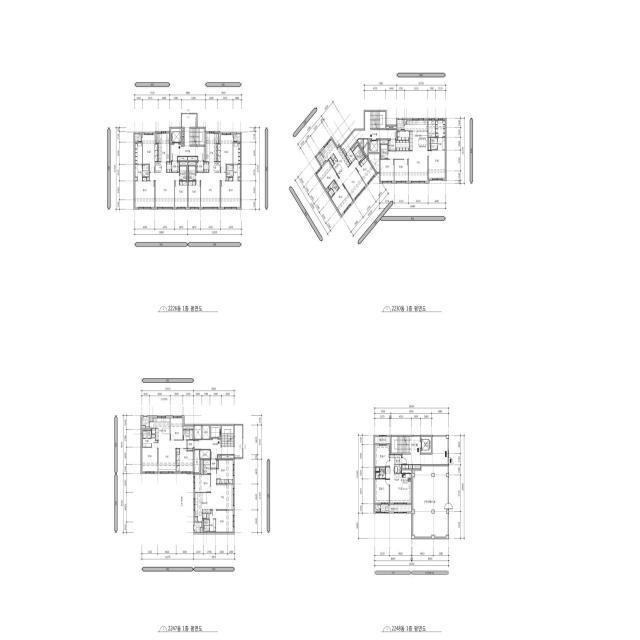space_balconi: (381, 505, 412, 512), (316, 152, 326, 166), (375, 436, 390, 443), (397, 119, 404, 130)
space_bedroom: (331, 184, 353, 215), (316, 161, 339, 189), (221, 177, 241, 208), (142, 134, 158, 172), (135, 177, 154, 208), (218, 134, 233, 172), (356, 157, 376, 185), (142, 438, 157, 472), (210, 511, 234, 532), (429, 150, 445, 179), (217, 460, 233, 483), (177, 449, 193, 472), (375, 479, 389, 503), (188, 181, 200, 208), (175, 181, 187, 208), (380, 160, 394, 182), (170, 417, 183, 440), (375, 445, 389, 466), (395, 160, 408, 182), (194, 475, 210, 492)
space_dressroom: (436, 119, 445, 137), (135, 143, 142, 164), (233, 143, 240, 164), (233, 165, 241, 181), (135, 165, 142, 181)
space_elevator: (421, 437, 431, 453), (171, 129, 181, 143), (211, 426, 221, 438), (369, 140, 379, 152)
space_elevator_hall: (171, 114, 205, 160), (341, 129, 396, 154), (403, 436, 448, 464), (194, 438, 233, 458)
space_front: (345, 150, 356, 164), (390, 455, 402, 464), (388, 140, 396, 151), (172, 161, 179, 172), (196, 161, 203, 172), (187, 440, 193, 450), (211, 460, 218, 468)
space_kitchen: (321, 139, 350, 177), (405, 119, 428, 151), (155, 132, 170, 173), (206, 132, 220, 173), (194, 493, 211, 521), (150, 417, 170, 440), (395, 474, 411, 490)
space_living_room: (336, 158, 366, 201), (388, 151, 428, 182), (386, 458, 411, 503), (196, 173, 226, 208), (150, 173, 179, 208), (158, 440, 187, 472), (211, 469, 234, 509)
space_other: (413, 466, 448, 537), (235, 425, 242, 458), (369, 154, 379, 172), (428, 120, 435, 137), (396, 141, 409, 150), (194, 450, 199, 472), (397, 131, 409, 140), (194, 426, 202, 439), (202, 426, 210, 439), (376, 468, 385, 478), (363, 139, 368, 157), (200, 450, 210, 458), (194, 522, 202, 532), (142, 417, 149, 428), (351, 142, 358, 151), (358, 139, 363, 149), (204, 162, 209, 172), (395, 465, 401, 473), (375, 505, 381, 512), (167, 162, 171, 172), (329, 158, 334, 165), (222, 455, 233, 458), (380, 140, 388, 144), (183, 426, 193, 429), (386, 126, 396, 129), (201, 460, 203, 474), (402, 470, 411, 473), (188, 157, 197, 160), (178, 157, 187, 160), (188, 162, 196, 165), (413, 465, 420, 468), (180, 162, 187, 165), (155, 134, 157, 143), (182, 137, 184, 145), (403, 465, 408, 468), (182, 129, 184, 136), (152, 434, 155, 438), (326, 188, 329, 192), (429, 138, 430, 150), (409, 465, 412, 468), (150, 418, 153, 421), (219, 134, 220, 143), (238, 177, 241, 180), (218, 455, 221, 458), (200, 528, 202, 532), (207, 514, 209, 518), (195, 517, 197, 521), (142, 426, 145, 428), (135, 177, 137, 180), (226, 177, 228, 180), (147, 177, 149, 180), (405, 120, 406, 124)
space_outdoor_room: (234, 134, 241, 142), (135, 134, 141, 142)
space_staircase: (365, 112, 385, 130), (391, 437, 410, 453), (190, 129, 205, 145), (222, 426, 233, 447)
space_toilet: (328, 180, 339, 197), (353, 146, 364, 163), (431, 138, 445, 150), (143, 430, 151, 447), (204, 519, 215, 531), (180, 166, 187, 180), (189, 166, 196, 180), (381, 145, 388, 159), (203, 460, 210, 474), (183, 430, 193, 439), (142, 171, 149, 177), (226, 165, 233, 171), (142, 165, 149, 170), (226, 171, 233, 176)
